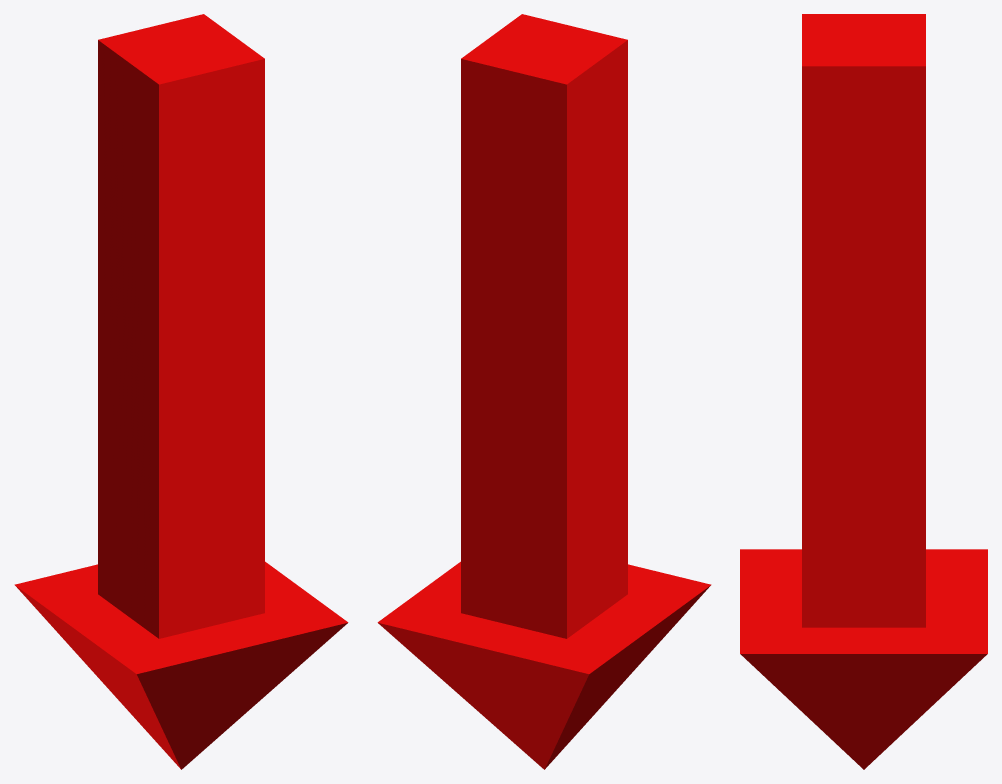
Rendered from Arrow.glb.
The picture shows the model from 3 angles, left to right: view 1: azimuth 30°, elevation 25°; view 2: azimuth 150°, elevation 25°; view 3: azimuth 270°, elevation 25°; orthographic projection.
Parts seen in each view (by area): view 1: Geom3D; view 2: Geom3D; view 3: Geom3D.
Part boxes in pixels (x1=…): Geom3D: x1=14, y1=14, x2=348, y2=769; Geom3D: x1=377, y1=14, x2=711, y2=769; Geom3D: x1=740, y1=14, x2=987, y2=769.
Size of the model in its own units: 4 by 13 by 4.
